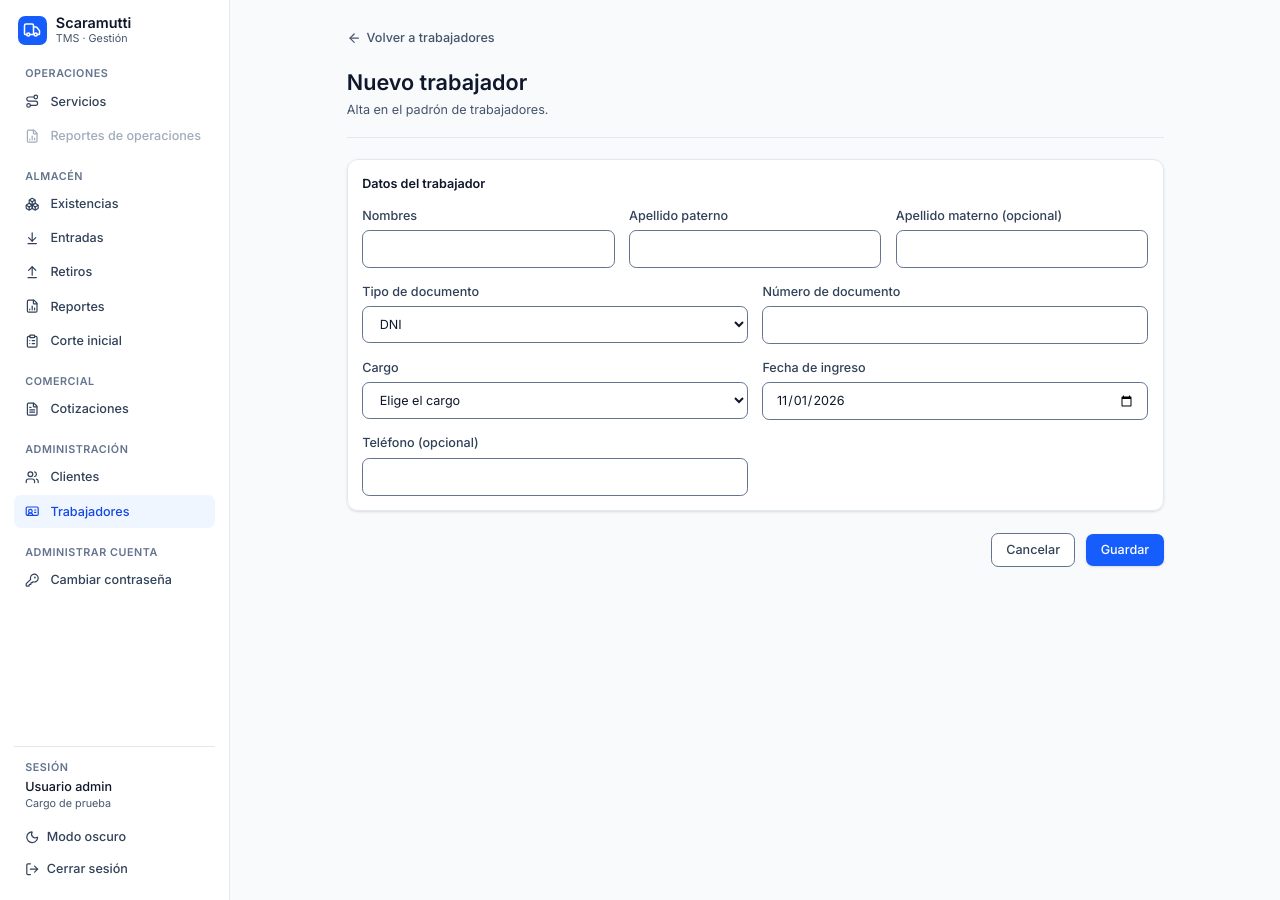
Test: router - URL viejas y la raíz del dominio › padrón de trabajadores › un alta termina en la ficha real del creado
Type "Ana" into the field labelled "Nombres" at (488, 250), box [362,230,615,268]
Type "Torres" into the field labelled "Apellido paterno" at (755, 250), box [629,230,881,268]
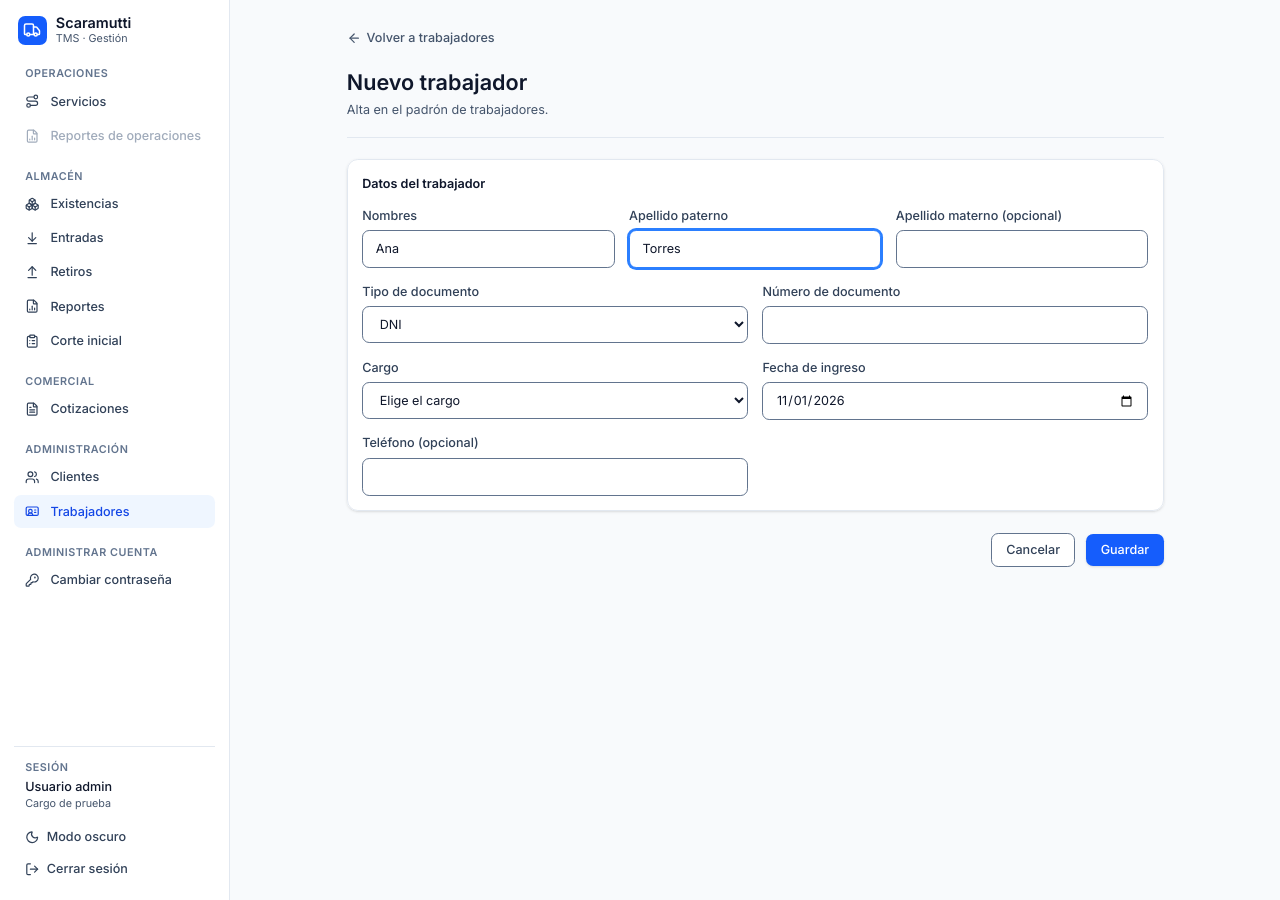
Type "Ruiz" into the field labelled "Apellido materno (opcional)" at (1022, 250), box [896,230,1148,268]
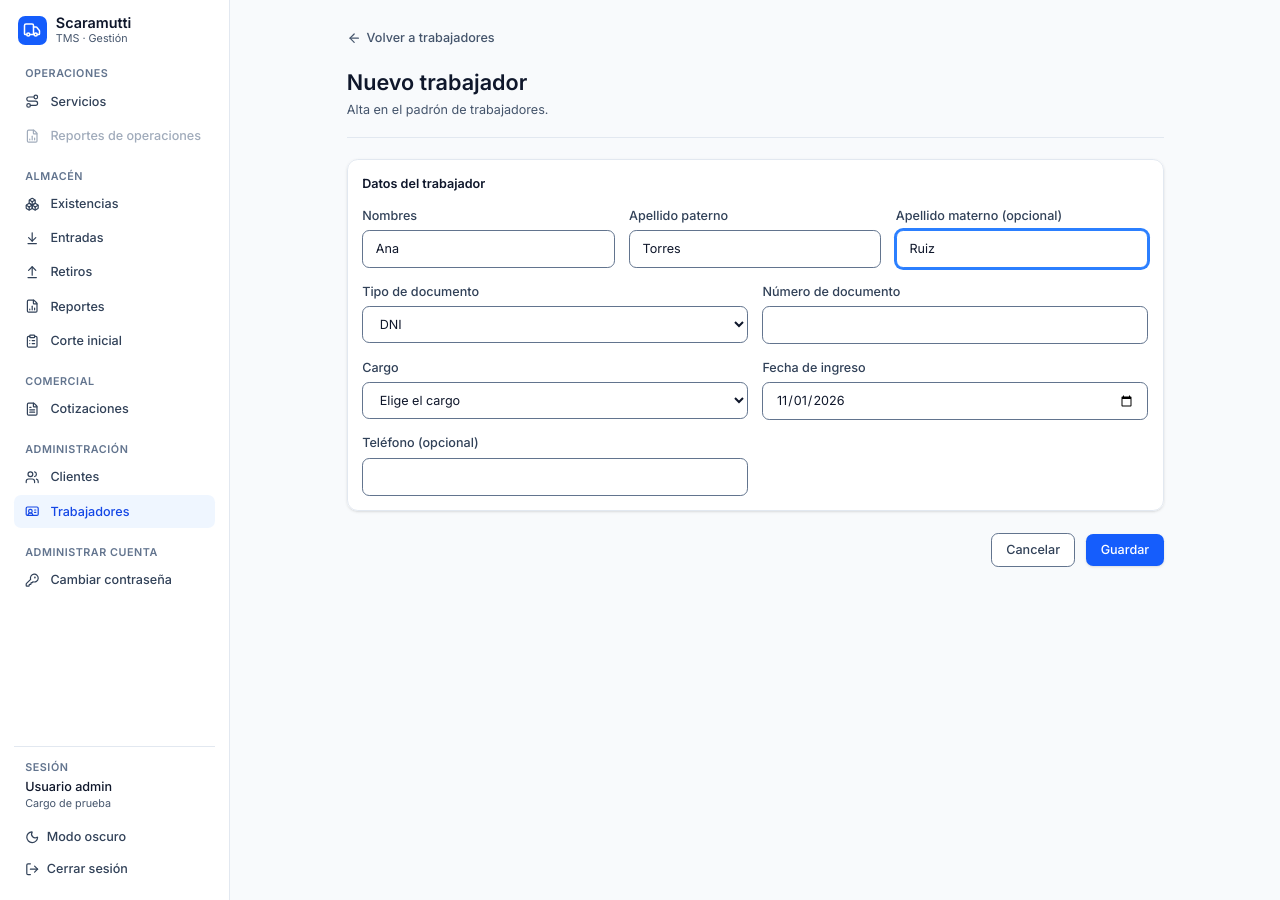
Type "45678912" into the field labelled "Número de documento" at (955, 325), box [762,306,1148,344]
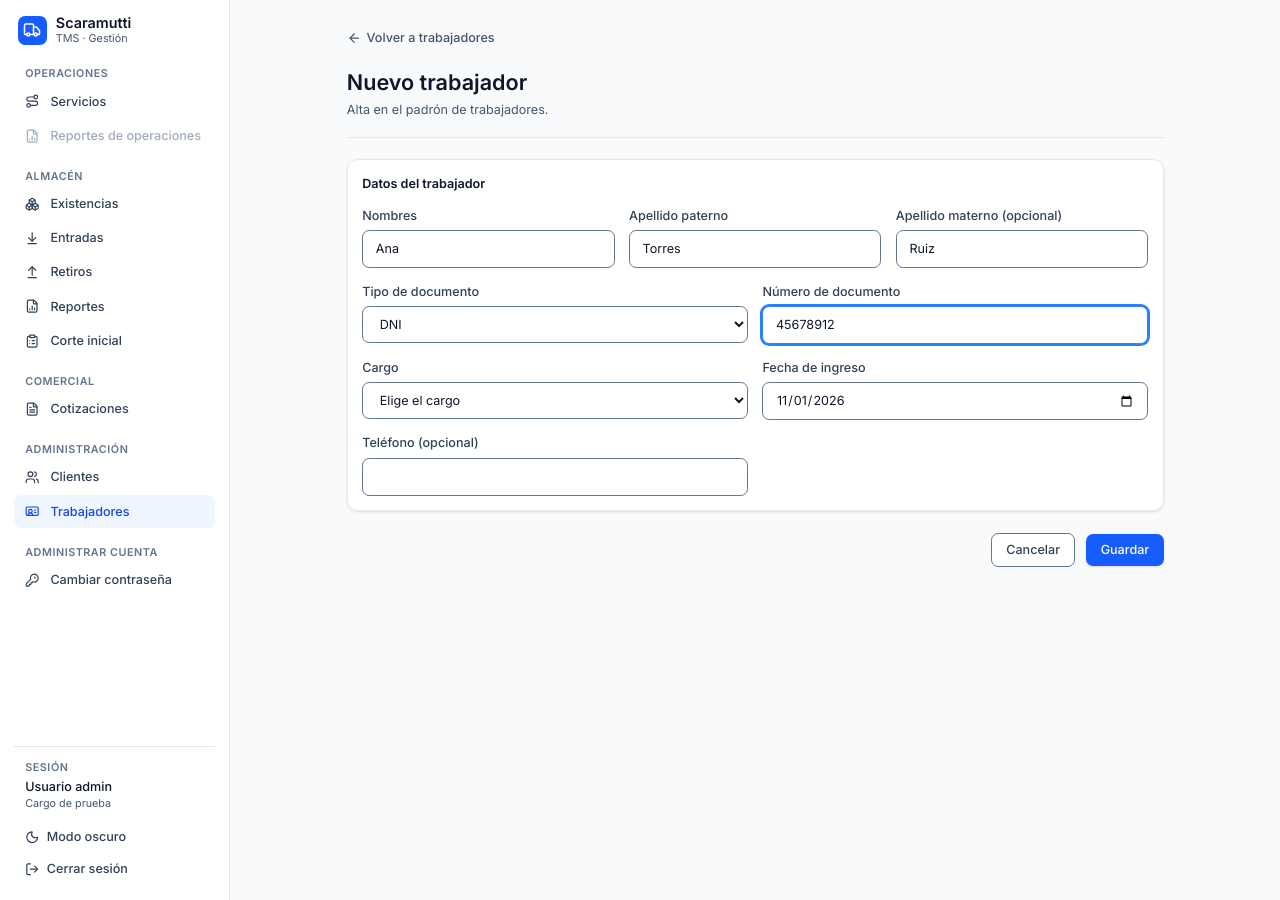
Select "Conductor" in the dropdown labelled "Cargo" at (555, 400), box [362,382,748,419]
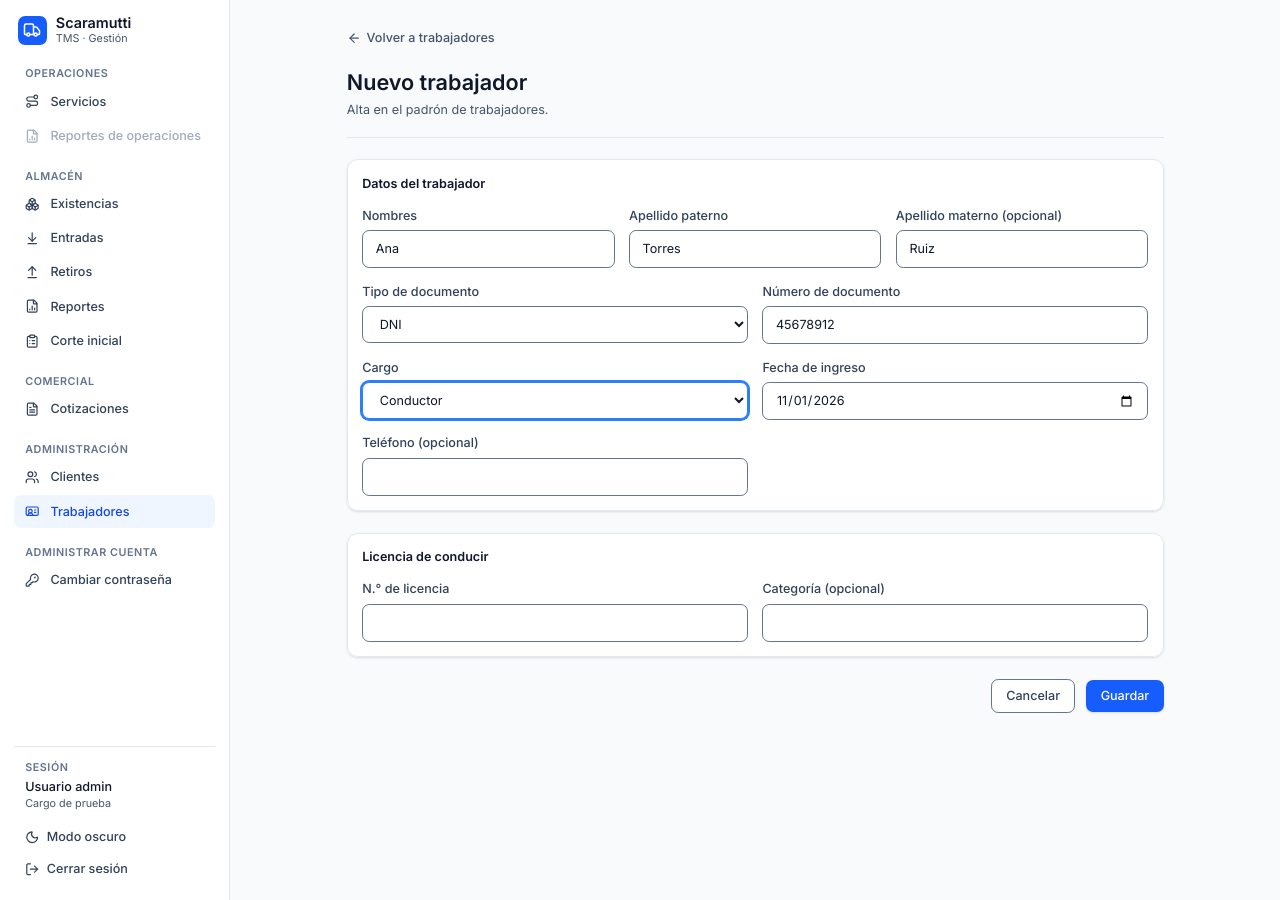
Type "Q12345678" into the field labelled "N.° de licencia" at (555, 623), box [362,604,748,642]
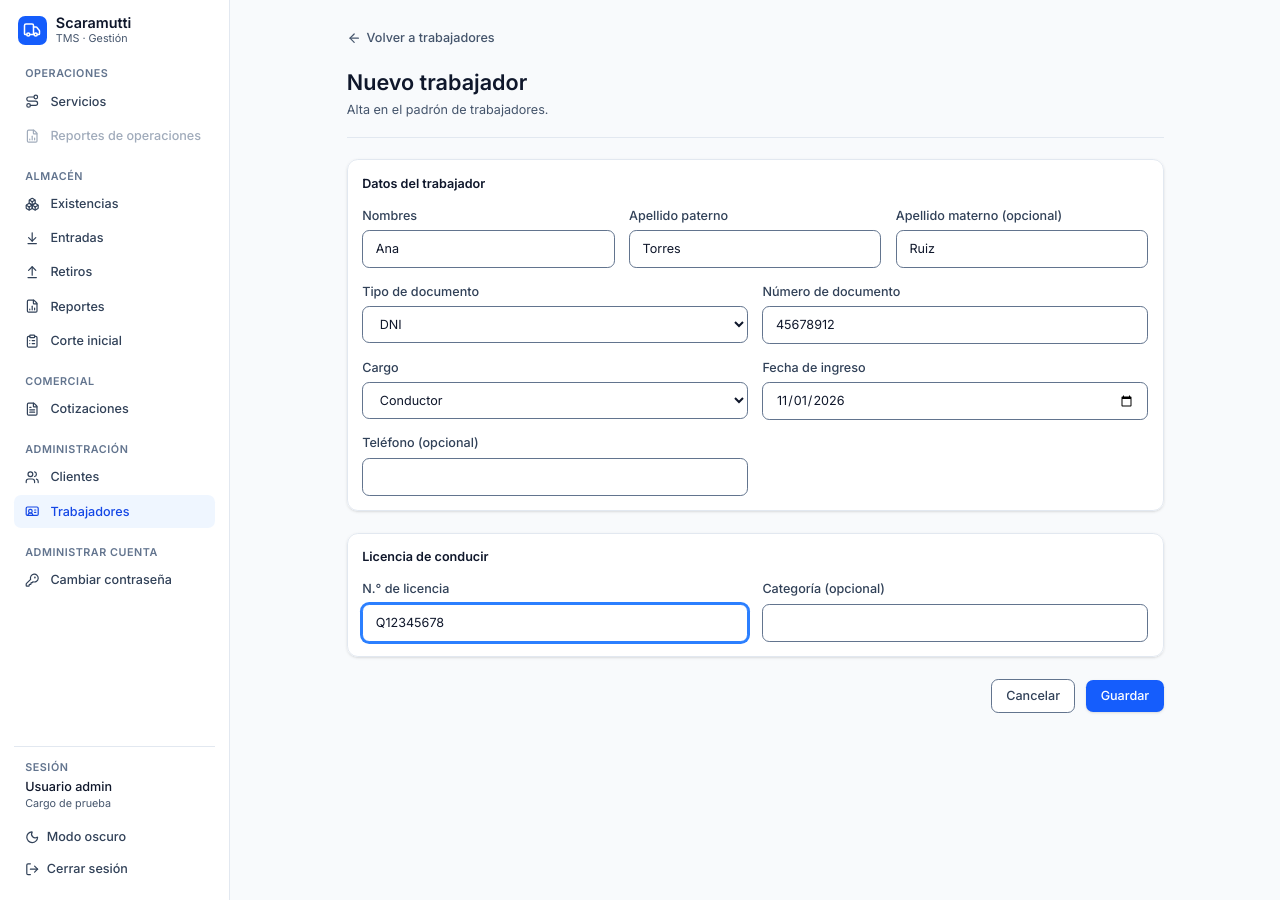
Click the button "Guardar" at (1125, 696), box [1086,680,1164,712]
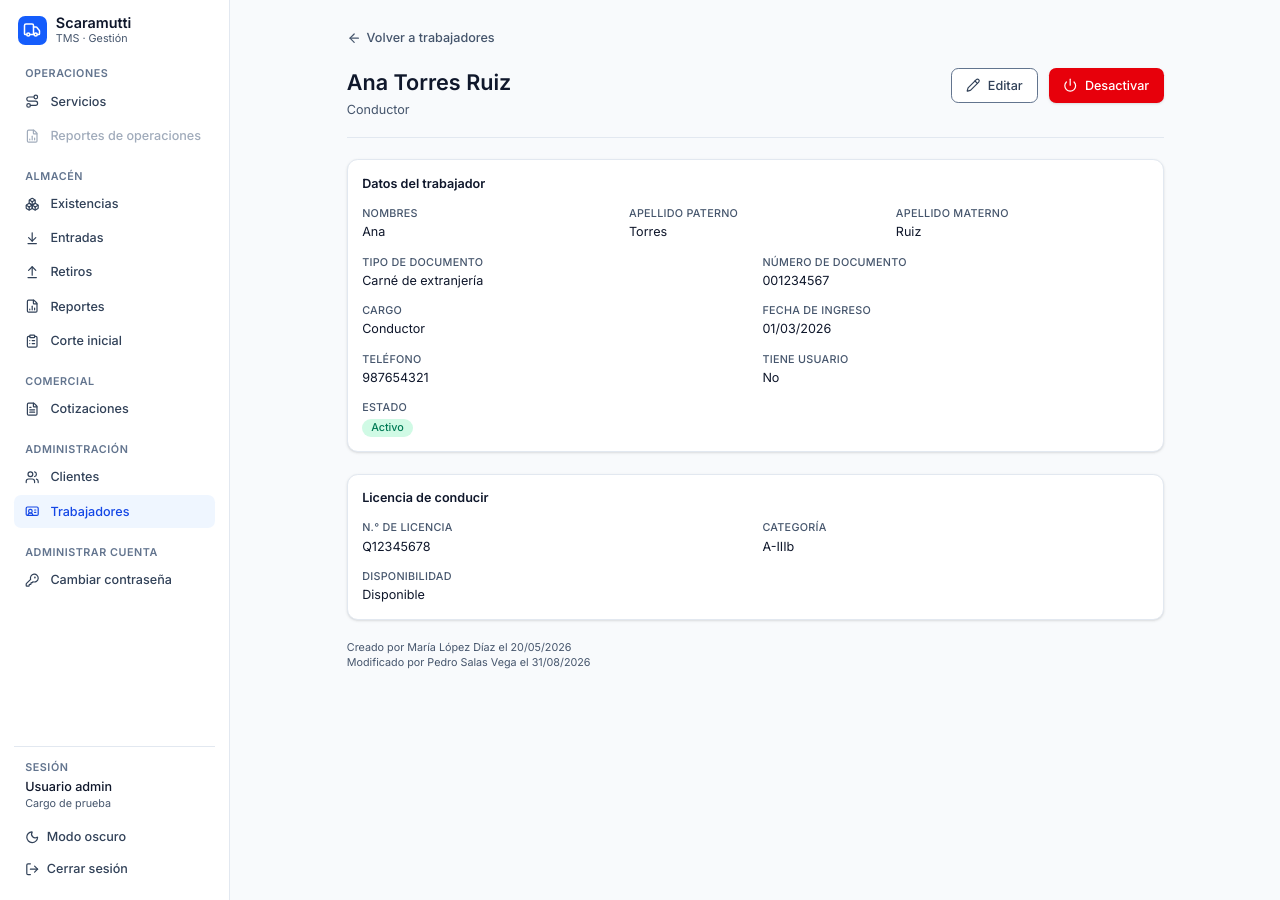
Expected: the heading "Licencia de conducir" is shown, [362,489,488,507]
Expected: the heading "Ana Torres Ruiz" is shown, [347,68,511,97]
